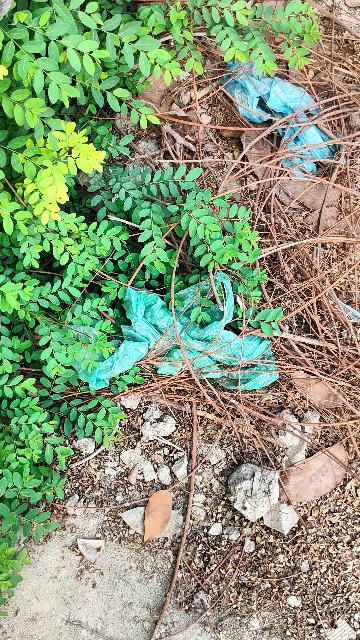polythene: (41, 284, 307, 398)
